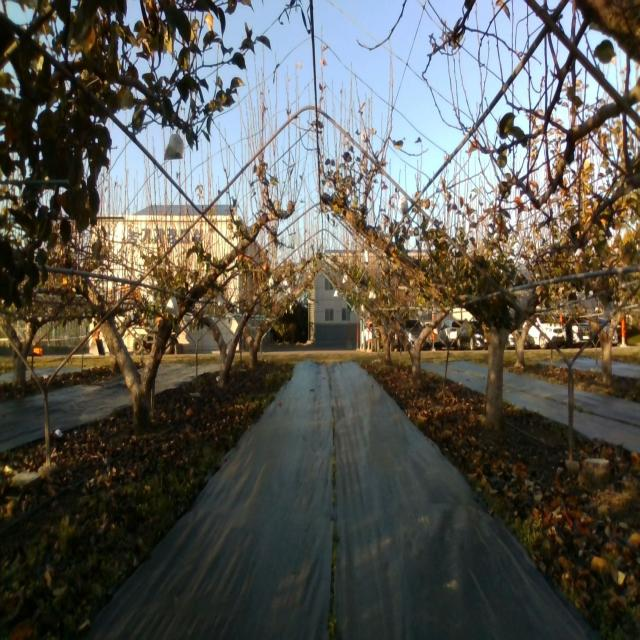pearbags: (163, 134, 184, 160), (166, 296, 180, 320), (398, 196, 409, 218)
